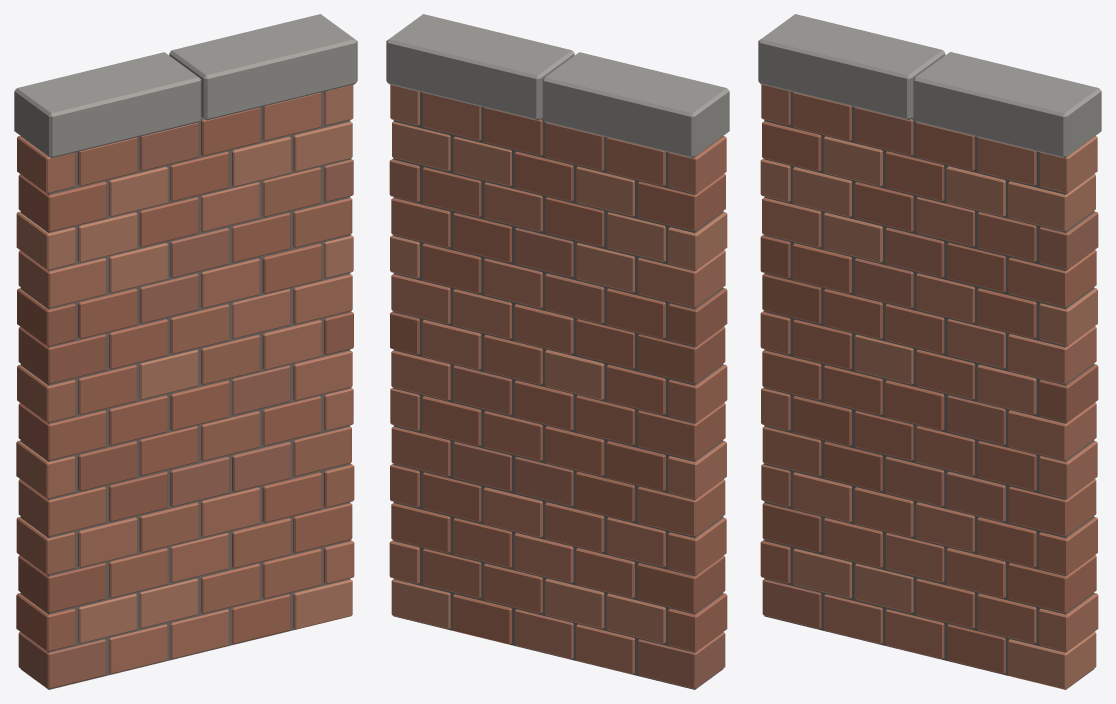
File: brick_wall.glb
3 renders of one model, left to right at view 1: azimuth 30°, elevation 25°; view 2: azimuth 150°, elevation 25°; view 3: azimuth 330°, elevation 25°, orthographic.
Visible parts, largest first — view 1: BrickWall; view 2: BrickWall; view 3: BrickWall.
Boxes of the visible parts, x1,y1,x2,y2 form: BrickWall: [14, 14, 357, 689]; BrickWall: [386, 14, 729, 689]; BrickWall: [758, 14, 1101, 689].
Size of the model in its own units: 1 by 1.8 by 0.21.
